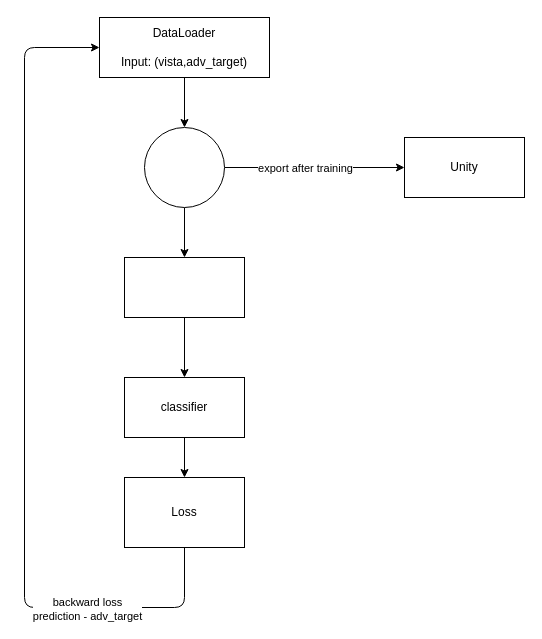
Some shapes in this 542 by 639 pixel diagram are drawn without their labels. The centre of each missing label's shape, as x and y in pixels:
mesh: pixel 184 167
pytorch3d: pixel 184 287
